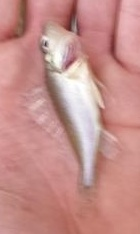Gymnocephalus cernuus: (20, 20, 120, 214)
